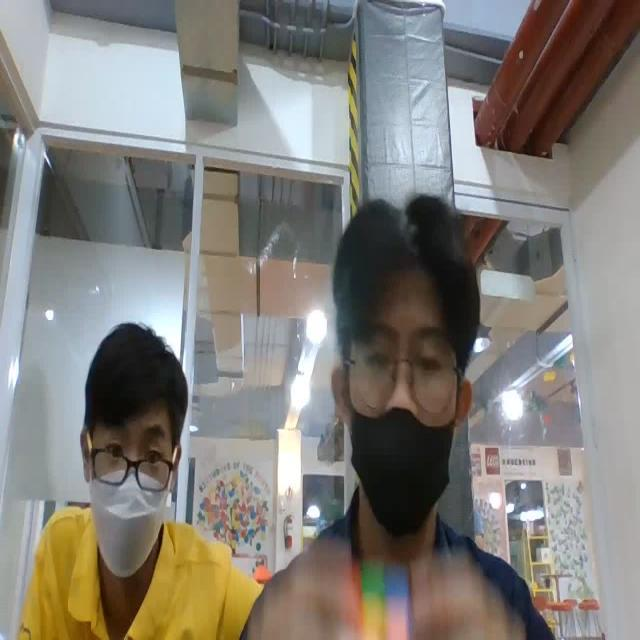Rub: (336, 558, 410, 638)
